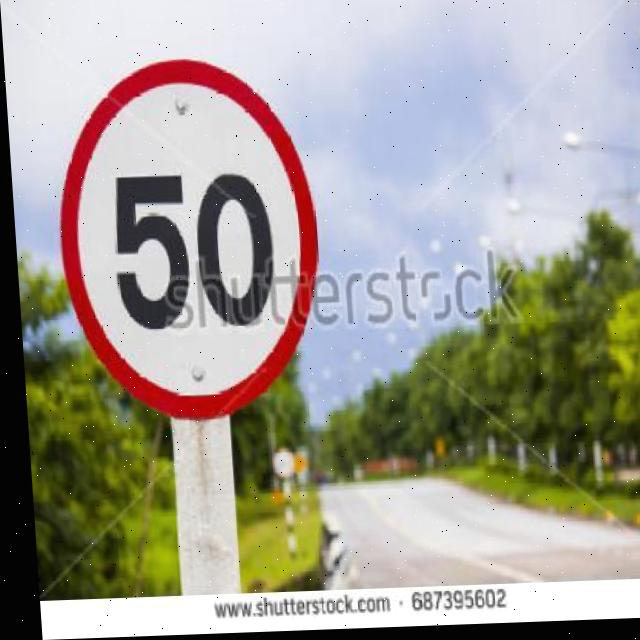Speed limit 50: (44, 54, 328, 429)
